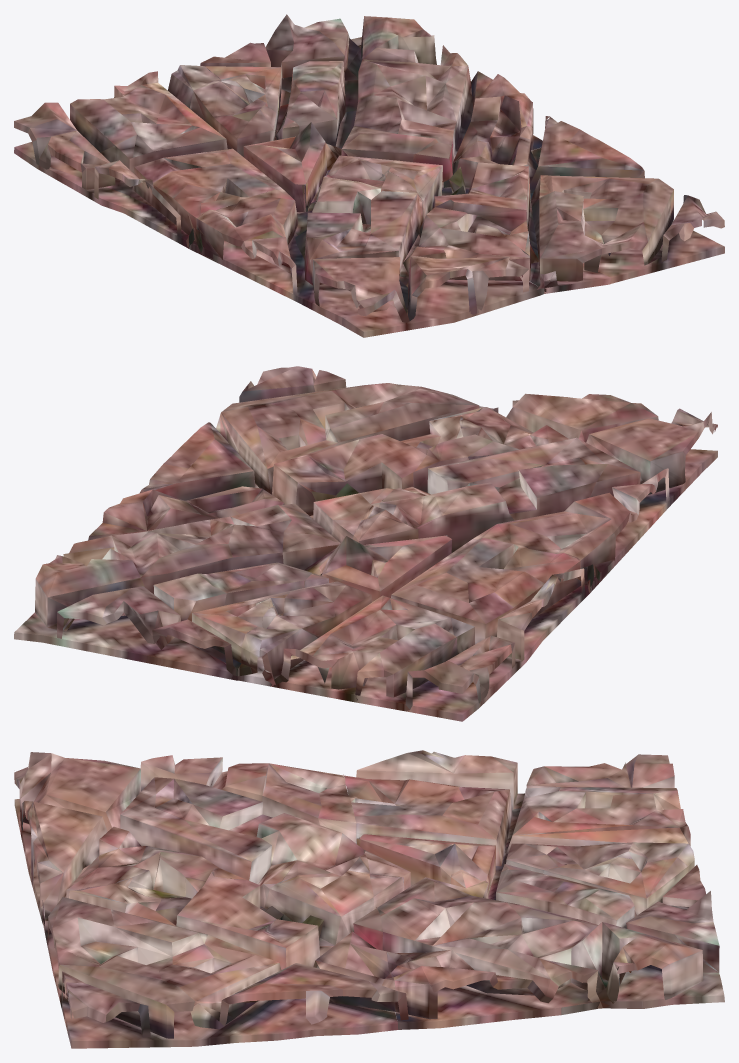
3 renders of one model, top to bottom at view 1: azimuth 30°, elevation 25°; view 2: azimuth 150°, elevation 25°; view 3: azimuth 270°, elevation 25°, orthographic. The views are drawn at different scales.
Visible parts, largest first — view 1: Mesh_0; view 2: Mesh_0; view 3: Mesh_0.
Part boxes in pixels (<box>): Mesh_0: <box>14,14,724,337</box>; Mesh_0: <box>14,366,717,721</box>; Mesh_0: <box>14,750,724,1048</box>.
Bounding box in the file's own units: 266 × 45.56 × 330.
Materials: 1 (1 with a texture image).
